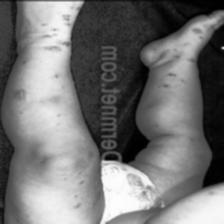Toxin: (159, 68, 178, 92), (42, 26, 67, 38), (40, 44, 69, 54), (61, 13, 73, 26)
